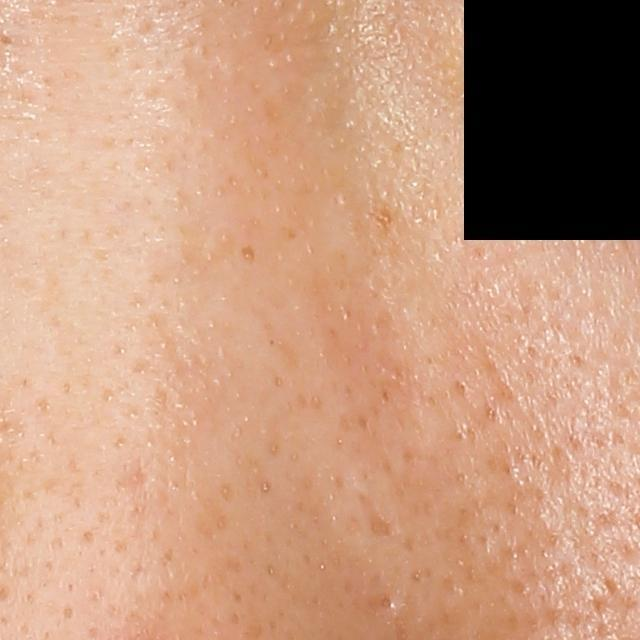atrophic_scar: (368, 510, 387, 538)
melasma: (370, 206, 393, 234)
